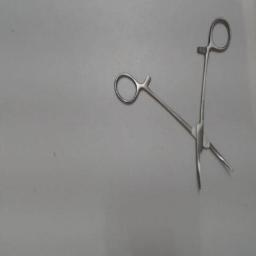Crile Artery Forceps: (110, 12, 238, 196)
